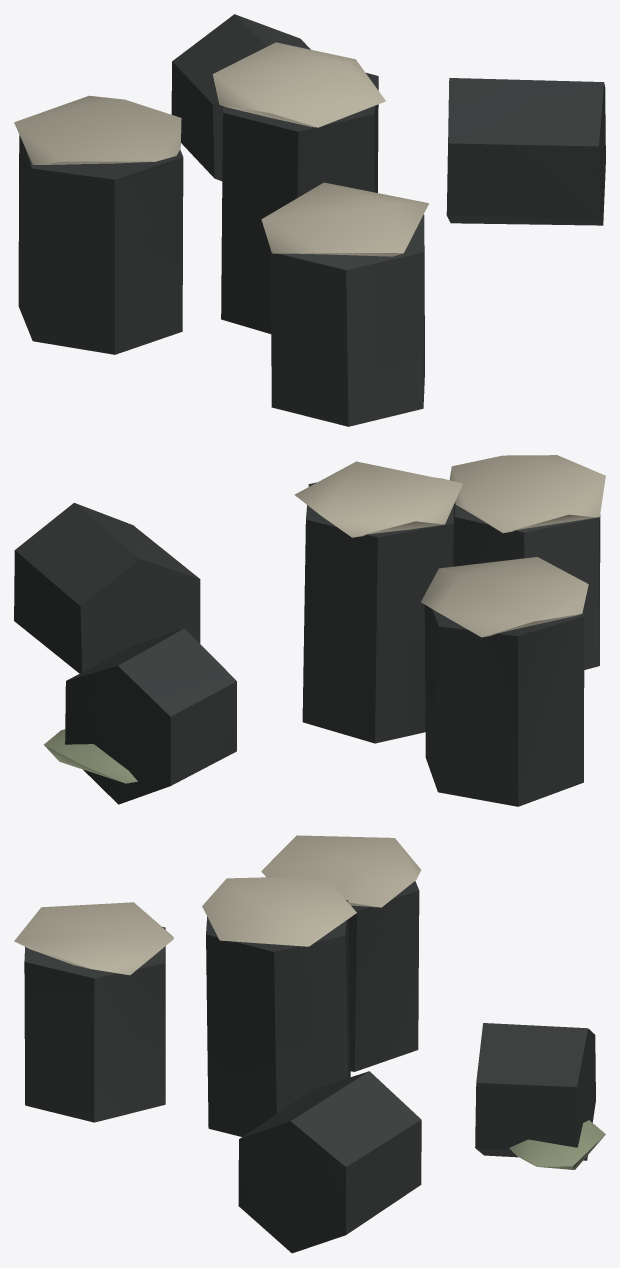
File: column_stubs_c_lod2.glb
3 renders of one model, top to bottom at view 1: azimuth 30°, elevation 25°; view 2: azimuth 150°, elevation 25°; view 3: azimuth 270°, elevation 25°, orthographic. The views are drawn at different scales.
Visible parts, largest first — view 1: Surface.001; view 2: Surface.001; view 3: Surface.001.
Part boxes in pixels (x1,y1,x2,y2): Surface.001: (14, 14, 605, 426); Surface.001: (14, 455, 605, 806); Surface.001: (14, 835, 605, 1253).
Size of the model in its own units: 3.37 by 1.34 by 3.22.
